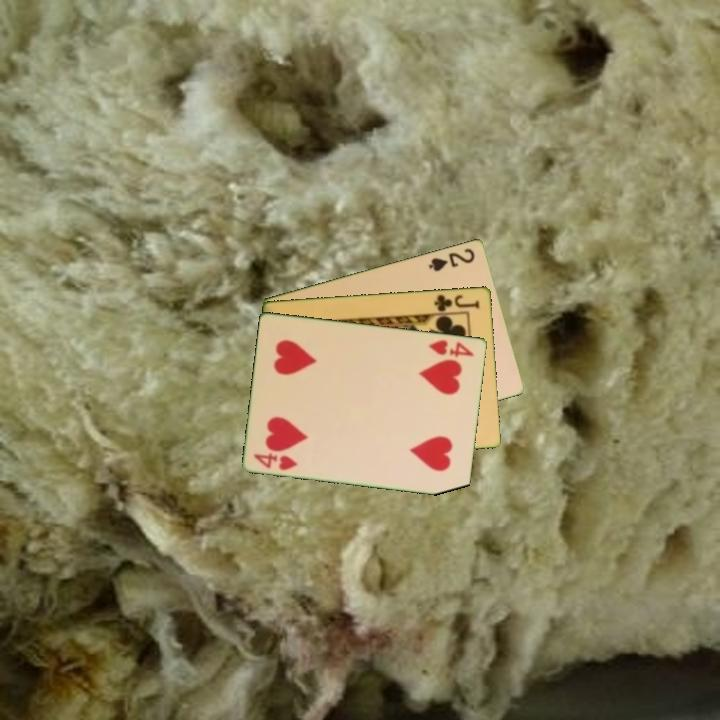2s: (425, 244, 478, 274)
4h: (425, 336, 477, 360), (251, 449, 300, 473)
Jc: (431, 291, 483, 314)
